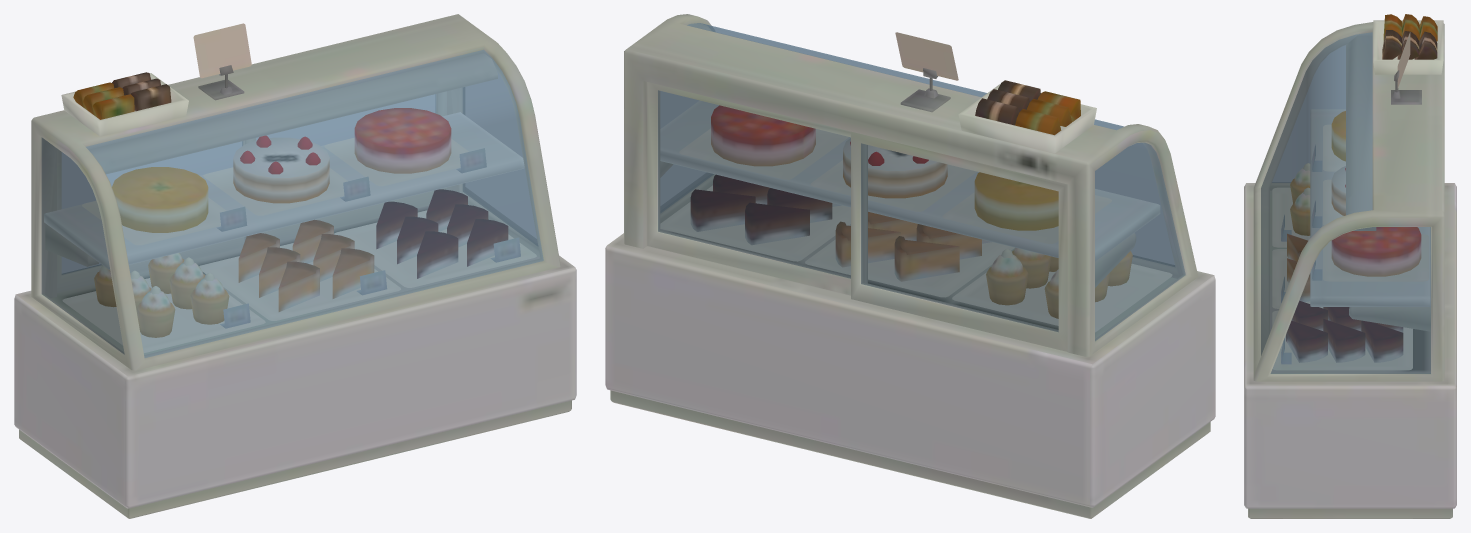
3 renders of one model, left to right at view 1: azimuth 30°, elevation 25°; view 2: azimuth 150°, elevation 25°; view 3: azimuth 270°, elevation 25°, orthographic. The views are drawn at different scales.
Bounding box in the file's own units: 17.96 × 14.57 × 7.89.
3 materials, 2 textured.
